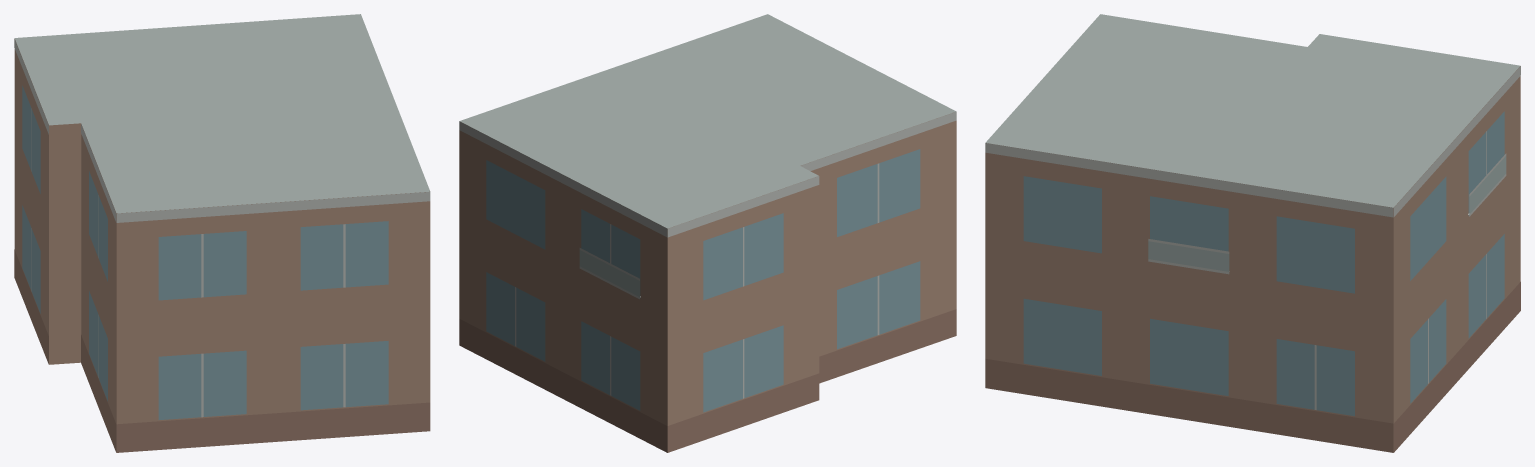
Rendered from survey-upis-32820548.glb.
3 renders of one model, left to right at view 1: azimuth 30°, elevation 25°; view 2: azimuth 150°, elevation 25°; view 3: azimuth 270°, elevation 25°, orthographic. The views are drawn at different scales.
Parts seen in each view (by area): view 1: survey-upis-32820548.tmp; view 2: survey-upis-32820548.tmp; view 3: survey-upis-32820548.tmp.
Boxes of the visible parts, x1=… form: survey-upis-32820548.tmp: x1=14, y1=14, x2=430, y2=452; survey-upis-32820548.tmp: x1=459, y1=14, x2=956, y2=452; survey-upis-32820548.tmp: x1=985, y1=14, x2=1520, y2=452.
Size of the model in its own units: 10.35 by 6.1 by 12.09.
